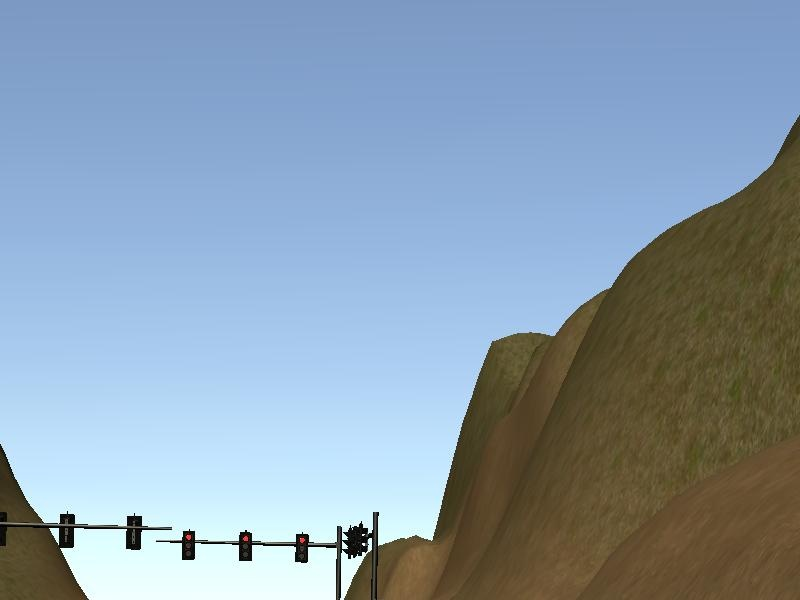red: (236, 528, 257, 564), (180, 528, 200, 564), (293, 531, 310, 564)
